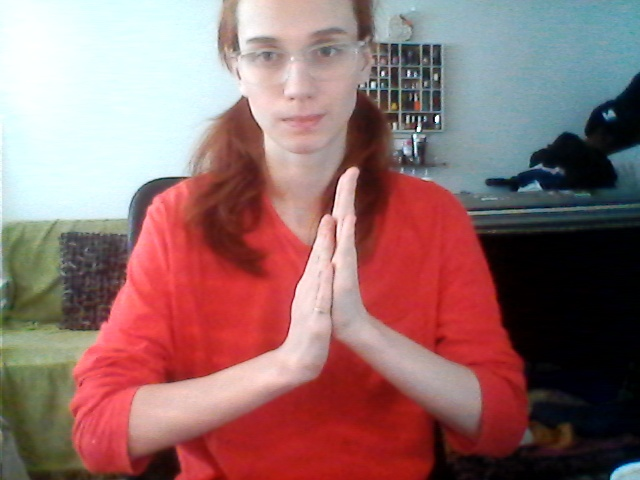prosim: (241, 162, 420, 427)
